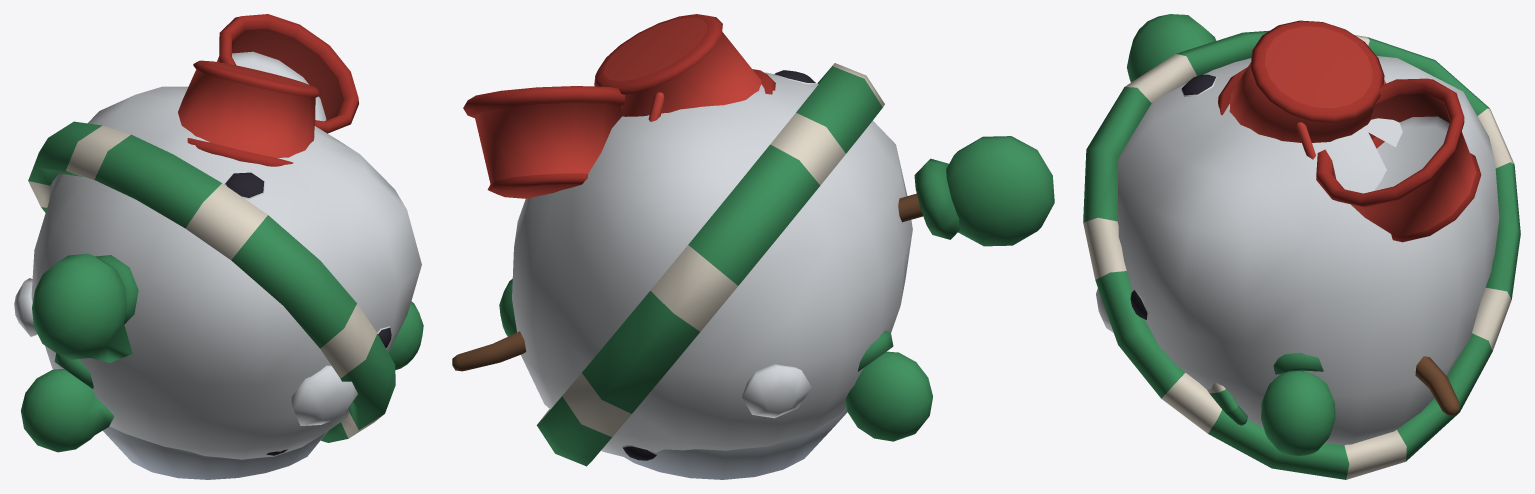
The model's file is yukidaruma.glb.
3 views of the same model, side by side, from view 1: azimuth 30°, elevation 25°; view 2: azimuth 150°, elevation 25°; view 3: azimuth 270°, elevation 25° (orthographic). The views are drawn at different scales.
Parts seen in each view (by area): view 1: ball, body, armL, armR; view 2: ball, body, armL, armR; view 3: ball, body, armR.
Boxes of the visible parts, x1,y1,x2,y2 form: ball: [14, 14, 421, 459]; body: [103, 60, 328, 479]; armL: [21, 353, 114, 452]; armR: [388, 301, 423, 369]; ball: [452, 63, 1054, 466]; body: [594, 14, 847, 479]; armL: [845, 330, 932, 441]; armR: [499, 279, 516, 336]; ball: [1083, 14, 1520, 479]; body: [1207, 20, 1386, 425]; armR: [1261, 353, 1335, 456].
Size of the model in its own units: 2 by 1.7 by 1.65.
